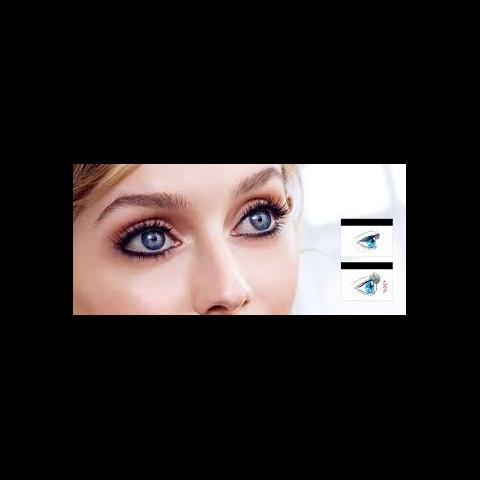opened: (94, 190, 294, 260)
